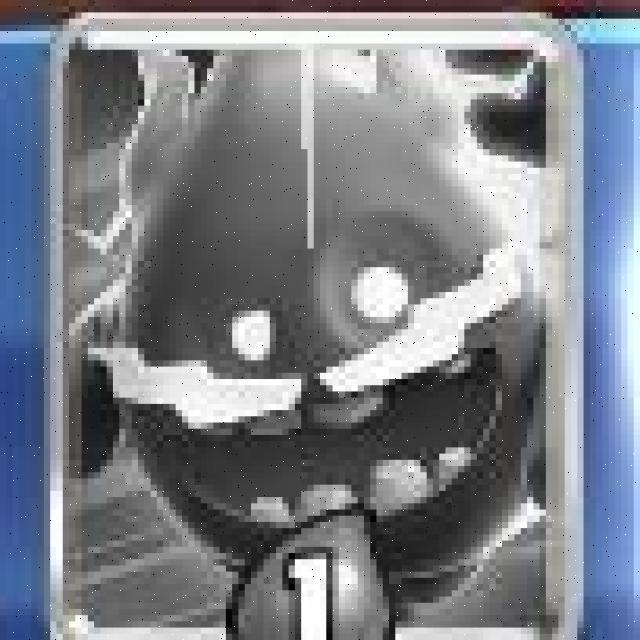Electro_Spirit: (49, 14, 583, 640)
